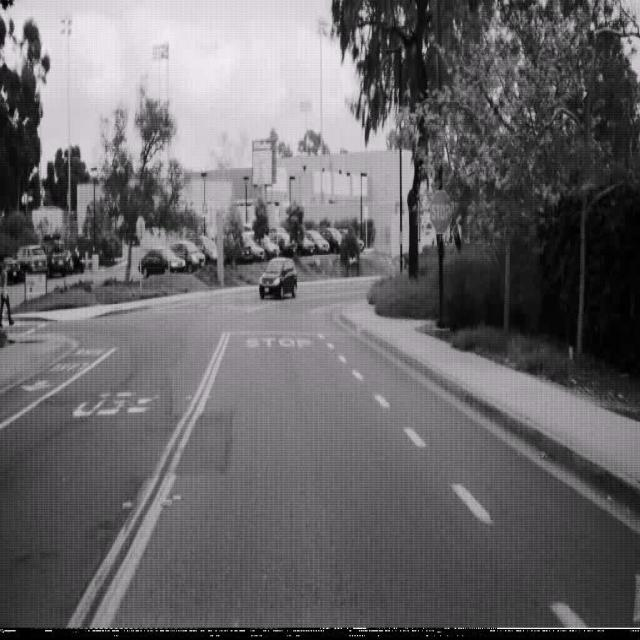stop: (430, 189, 452, 233)
